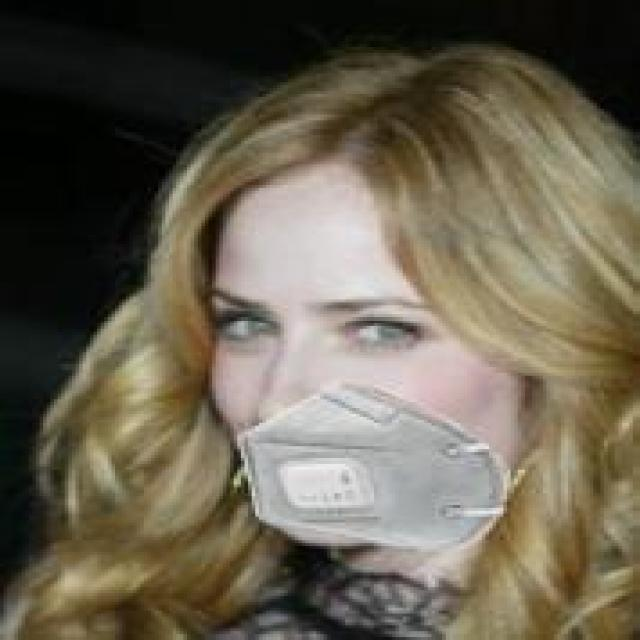mask: (158, 126, 618, 617)
